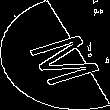M_NE: (11, 24, 99, 86)
